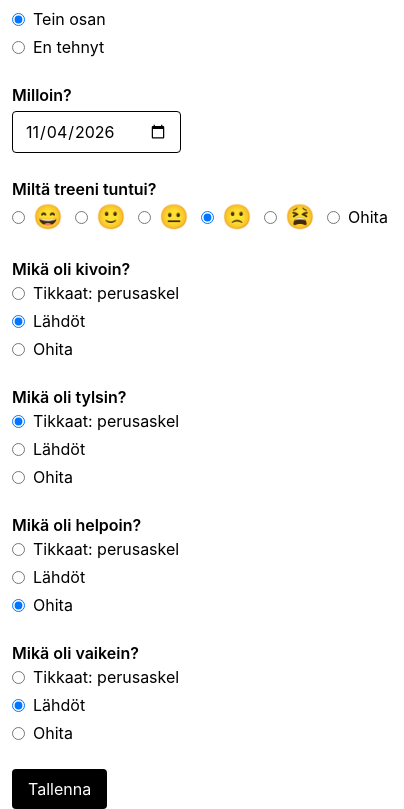
Test case: MarkForm › says a session that is gone is not found
(page scrolled)
Step 1. Click the button "Tallenna" → coordinates (60, 789), box [12,769,107,808]
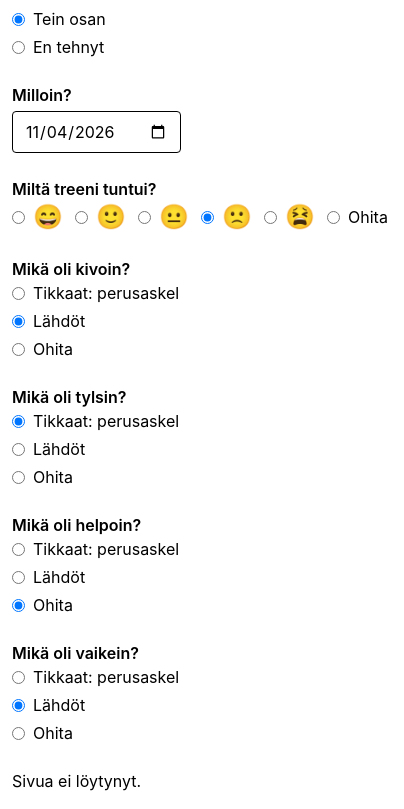
Check: the text "Sivua ei löytynyt." is shown, box [12,771,141,791]
